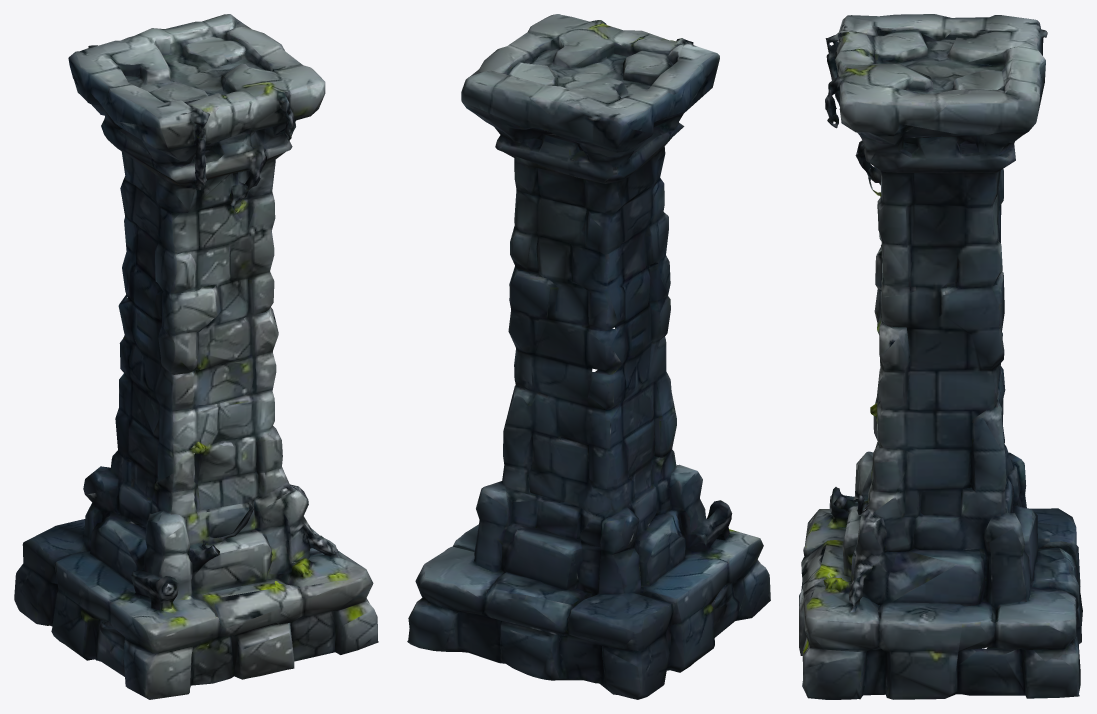
The model's file is hpillar.glb.
3 views of the same model, side by side, from view 1: azimuth 30°, elevation 25°; view 2: azimuth 150°, elevation 25°; view 3: azimuth 270°, elevation 25° (orthographic). The views are drawn at different scales.
Parts seen in each view (by area): view 1: tripo_node_1c59cc17; view 2: tripo_node_1c59cc17; view 3: tripo_node_1c59cc17.
Boxes of the visible parts, x1=… form: tripo_node_1c59cc17: x1=14, y1=14, x2=378, y2=699; tripo_node_1c59cc17: x1=407, y1=14, x2=770, y2=699; tripo_node_1c59cc17: x1=799, y1=14, x2=1082, y2=699.
Bounding box in the file's own units: 43.97 × 99.72 × 43.53.
1 material, 1 textured.
